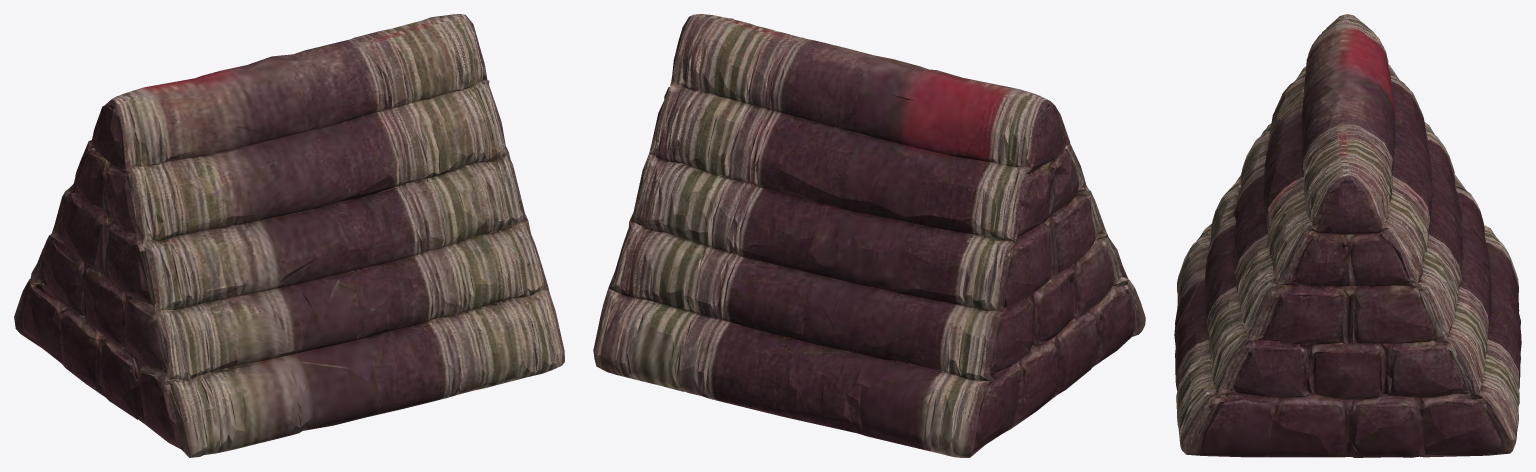
The model's file is w3hpillow.glb.
The picture shows the model from 3 angles, left to right: view 1: azimuth 30°, elevation 25°; view 2: azimuth 150°, elevation 25°; view 3: azimuth 270°, elevation 25°; orthographic projection. The views are drawn at different scales.
Visible parts, largest first — view 1: output_unwrapped; view 2: output_unwrapped; view 3: output_unwrapped.
Part boxes in pixels (bbox=[...]): output_unwrapped: bbox=[14, 14, 564, 457]; output_unwrapped: bbox=[593, 14, 1145, 457]; output_unwrapped: bbox=[1174, 14, 1521, 457].
Size of the model in its own units: 0.5 by 0.3656 by 0.4075.
Materials: 1 (1 with a texture image).
